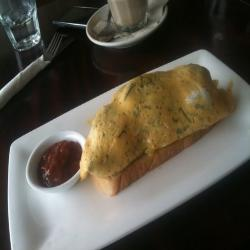bread: (81, 133, 224, 201)
ketchup: (23, 134, 85, 193)
omelette: (83, 68, 239, 171)
